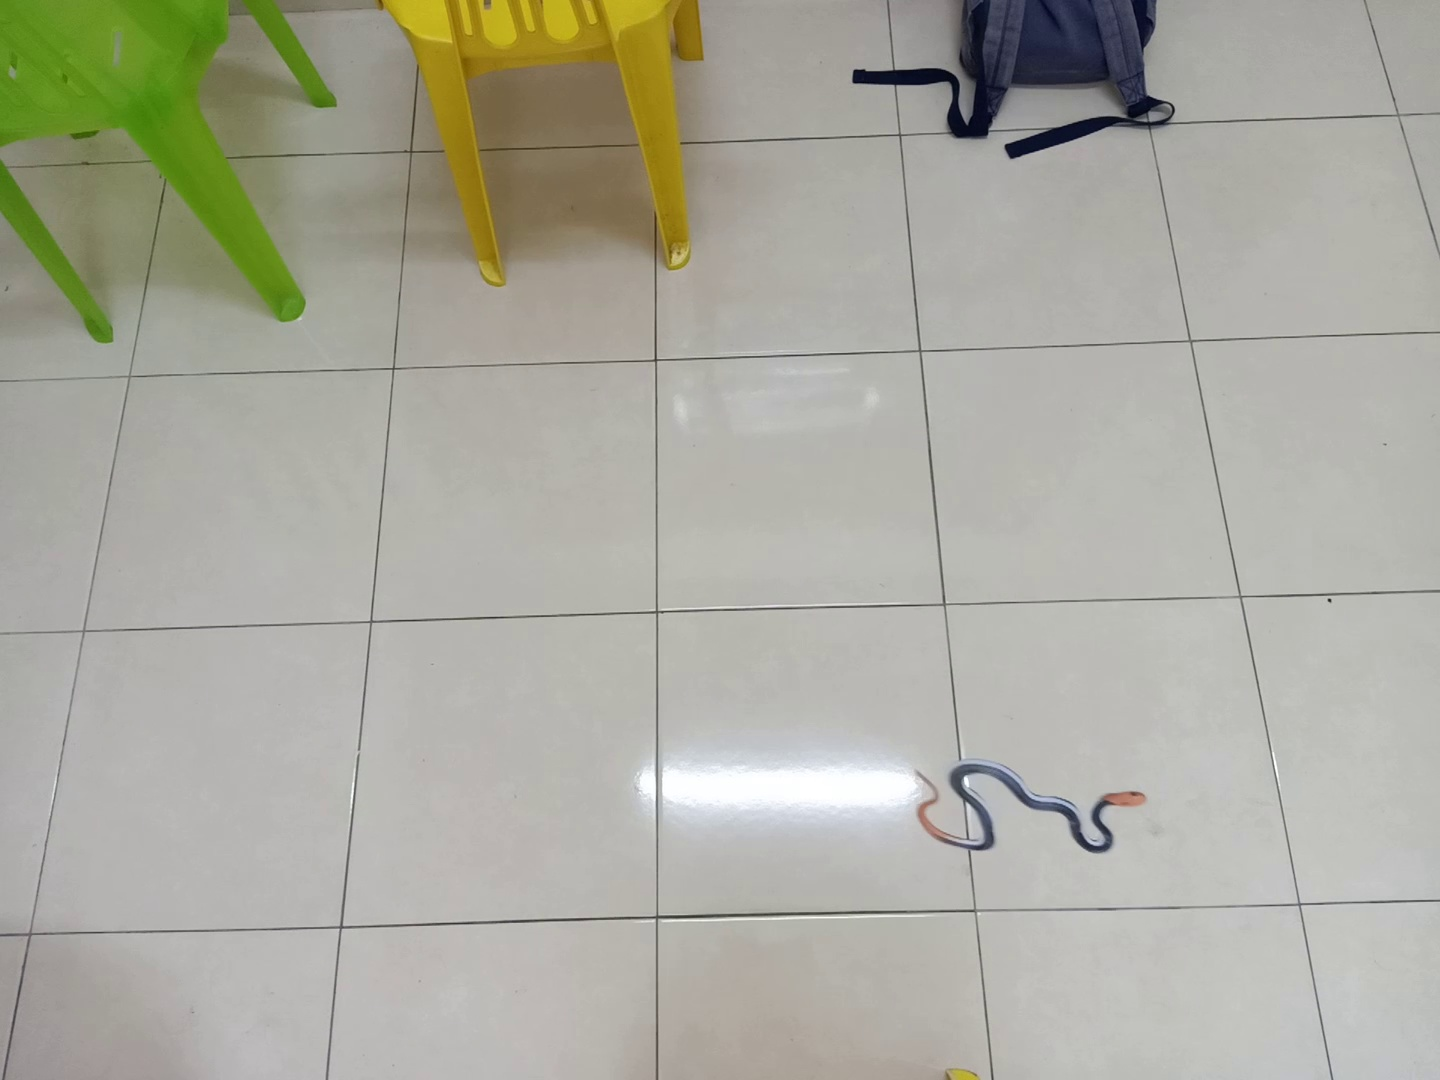snake: (906, 748, 1159, 864)
